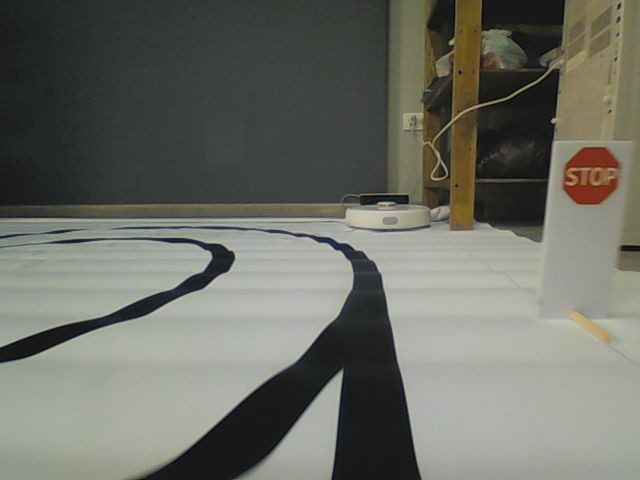Stop: (560, 143, 622, 206)
